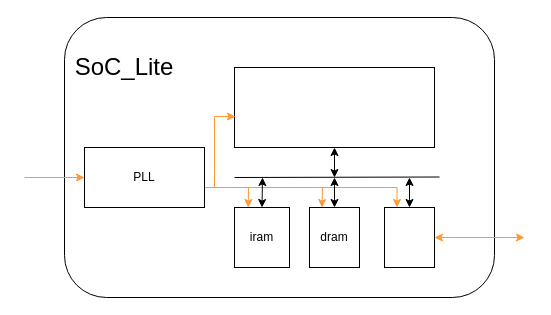
This 551x315 diagram has some shape labels left out. The shapes that lost their labels are listed below. From the top down, each one's centre as x and y in pixels, then its label:
(334,107): mycpu
(409,237): confreg
